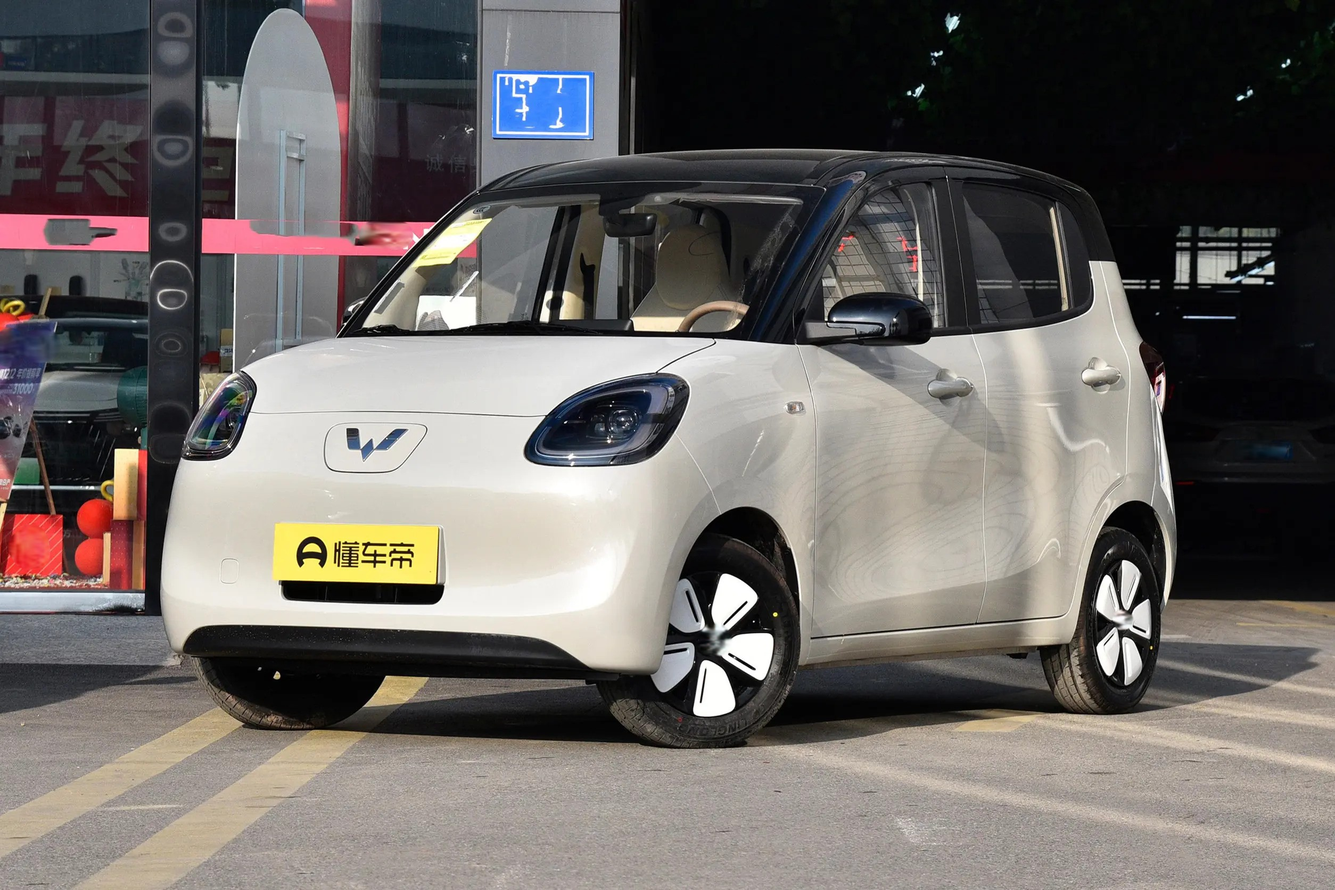SGMW: (347, 427, 408, 461)
